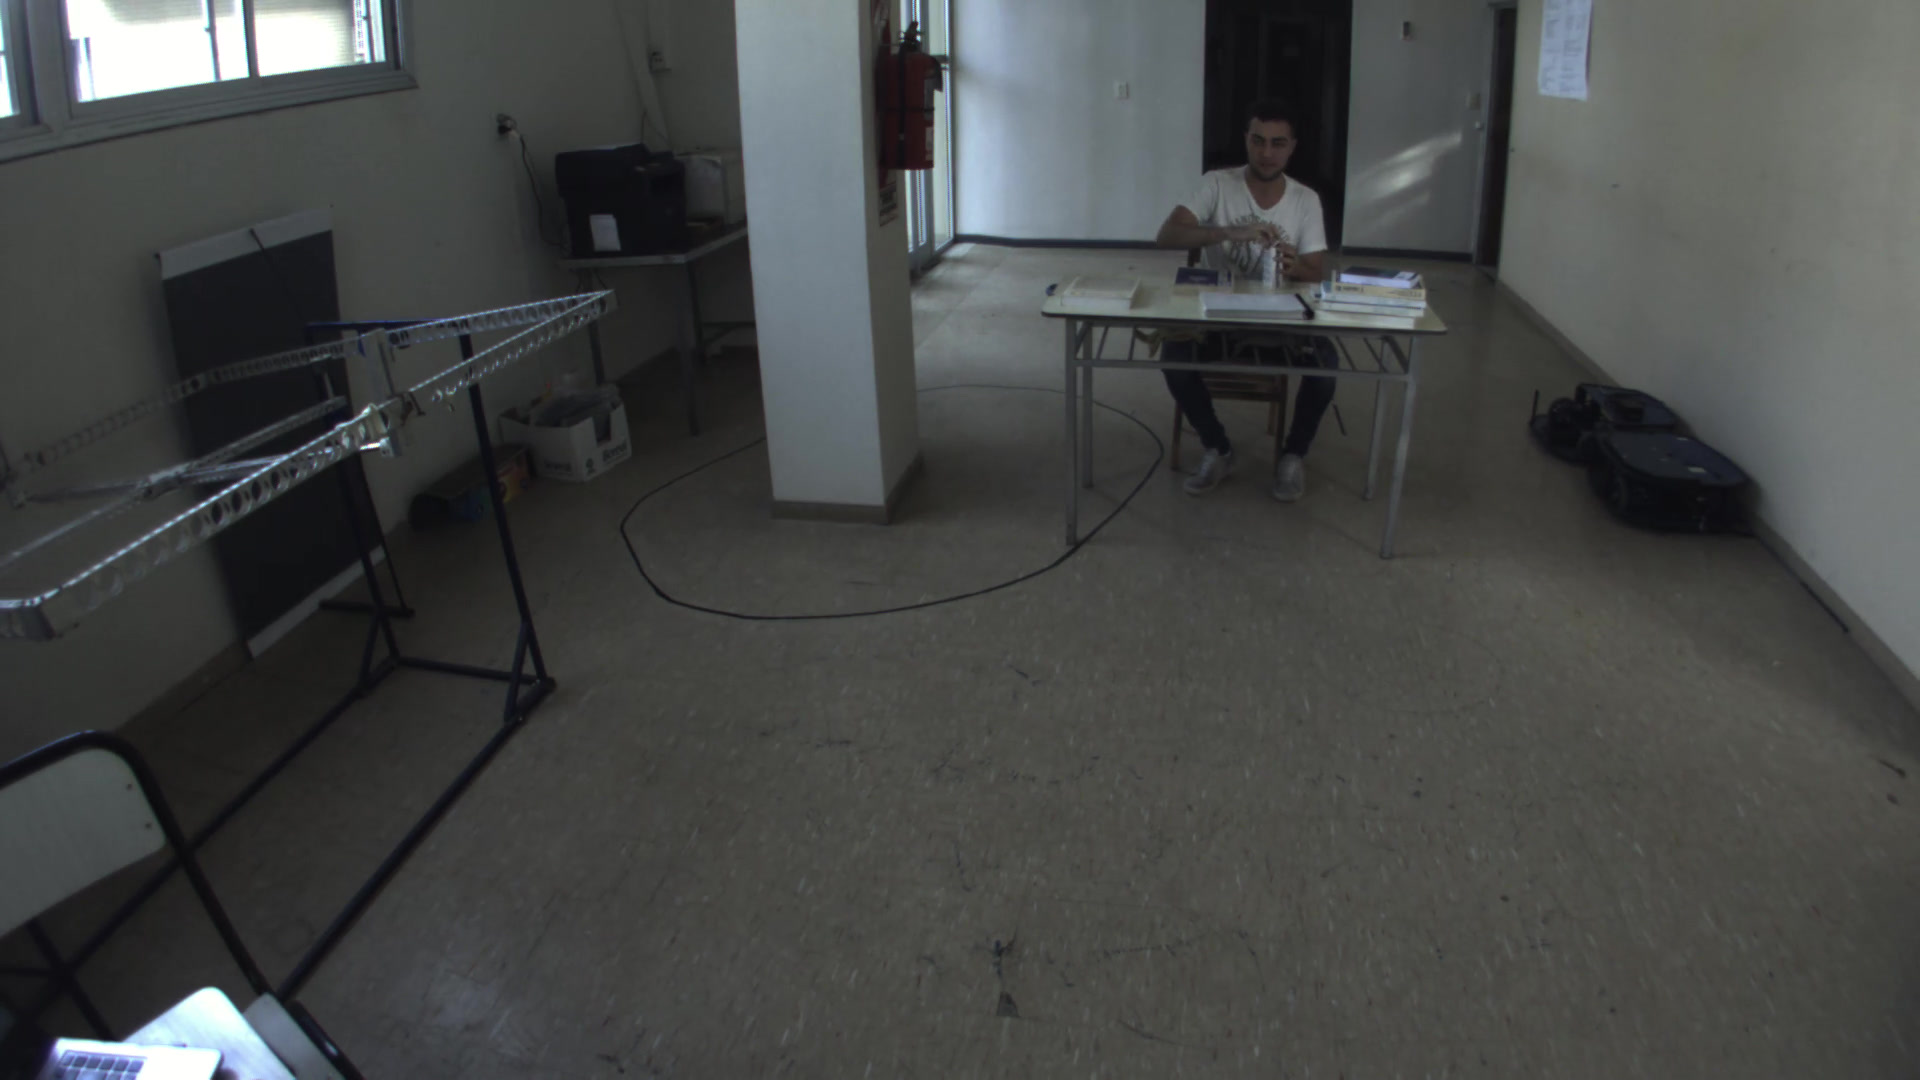hand: (1265, 241, 1312, 277), (1230, 218, 1279, 247)
